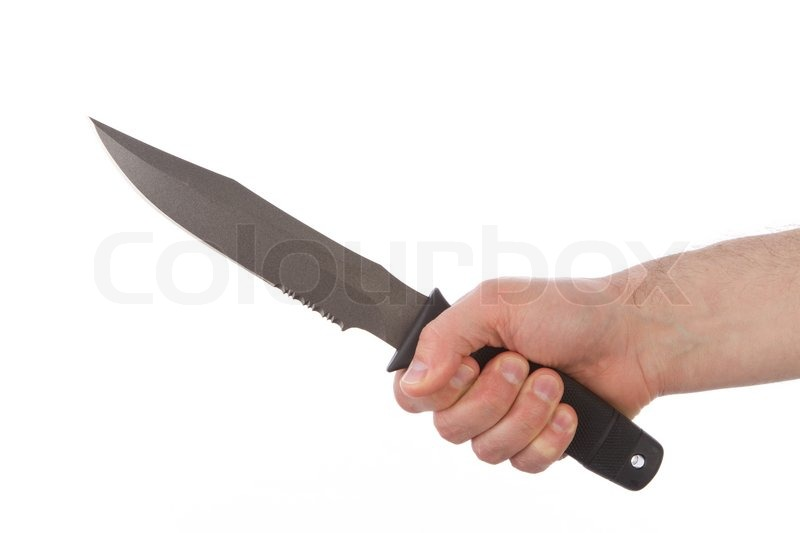knife: (72, 98, 561, 451)
